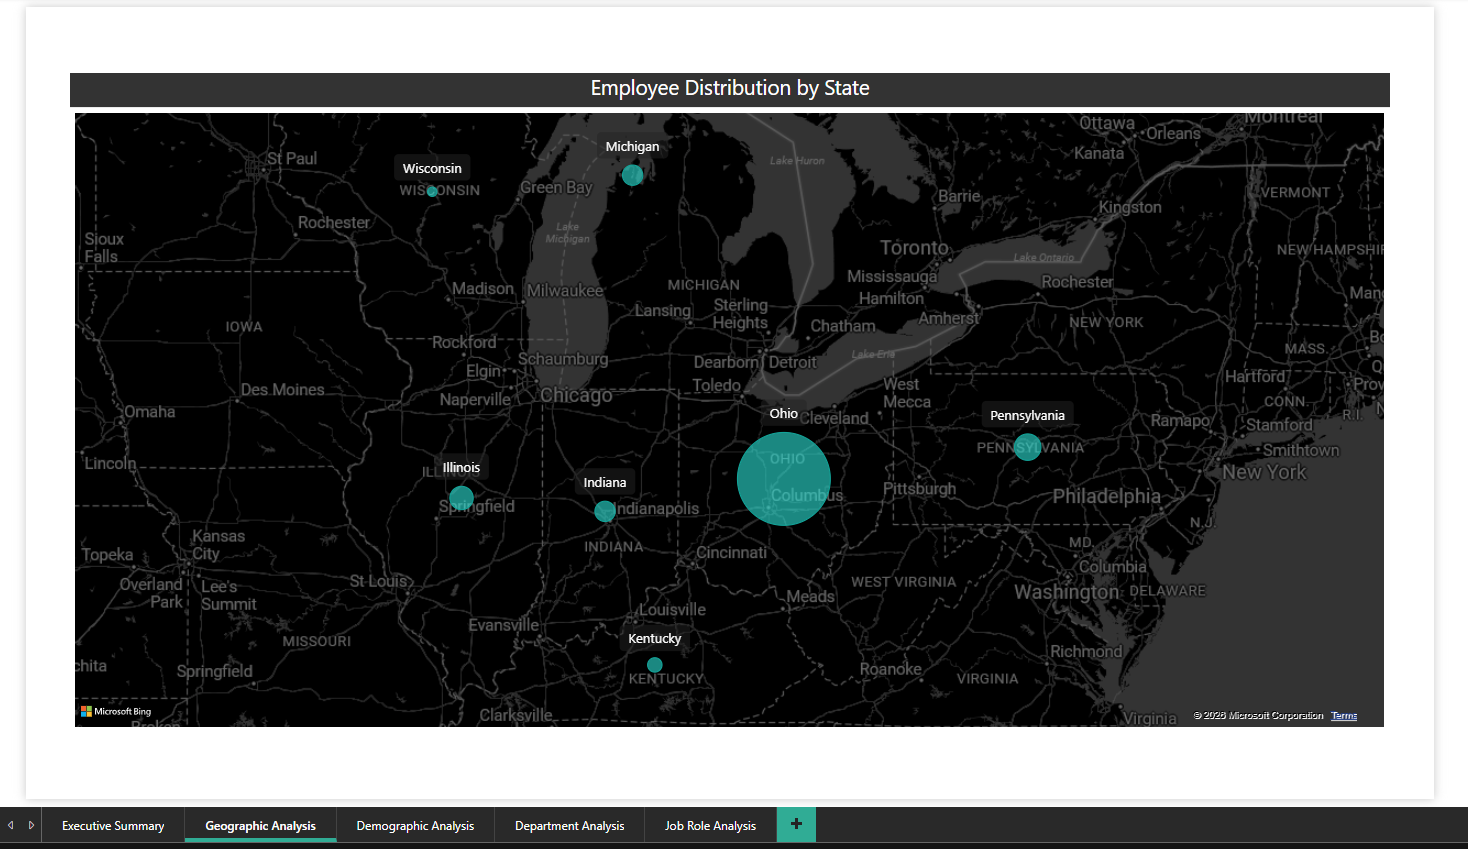

What the dashboard file says about the page in this screenshot:
{"tool":"powerbi","page":{"name":"Geographic Analysis","canvas":[1280,720],"ordinal":1},"visuals":[{"type":"map","title":"Employee Distribution by State","fields":{"Category":["employee_distribution_by_state.location_state"],"Size":["Sum(employee_distribution_by_state.employee_count)"]},"box":[40,60,1200,600],"z":0}]}

Visuals, with their boxes in screenshot pixels (x1, y1, x2, y2):
"Employee Distribution by State" map: x1=70, y1=69, x2=1380, y2=724
